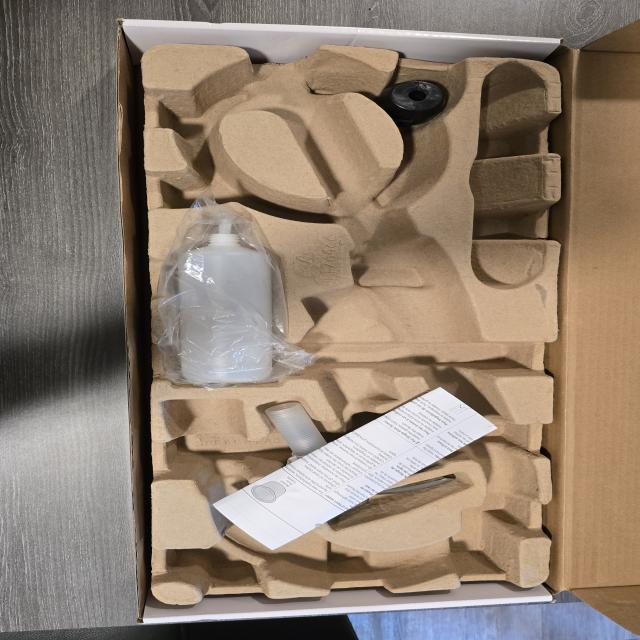1m: (168, 44, 536, 587)
2o: (264, 402, 452, 508)
3: (180, 217, 273, 385)
4m: (469, 61, 546, 290)
5: (376, 79, 453, 127)
6m: (159, 68, 252, 148)
7m: (155, 150, 293, 216)
8: (211, 387, 502, 551)
